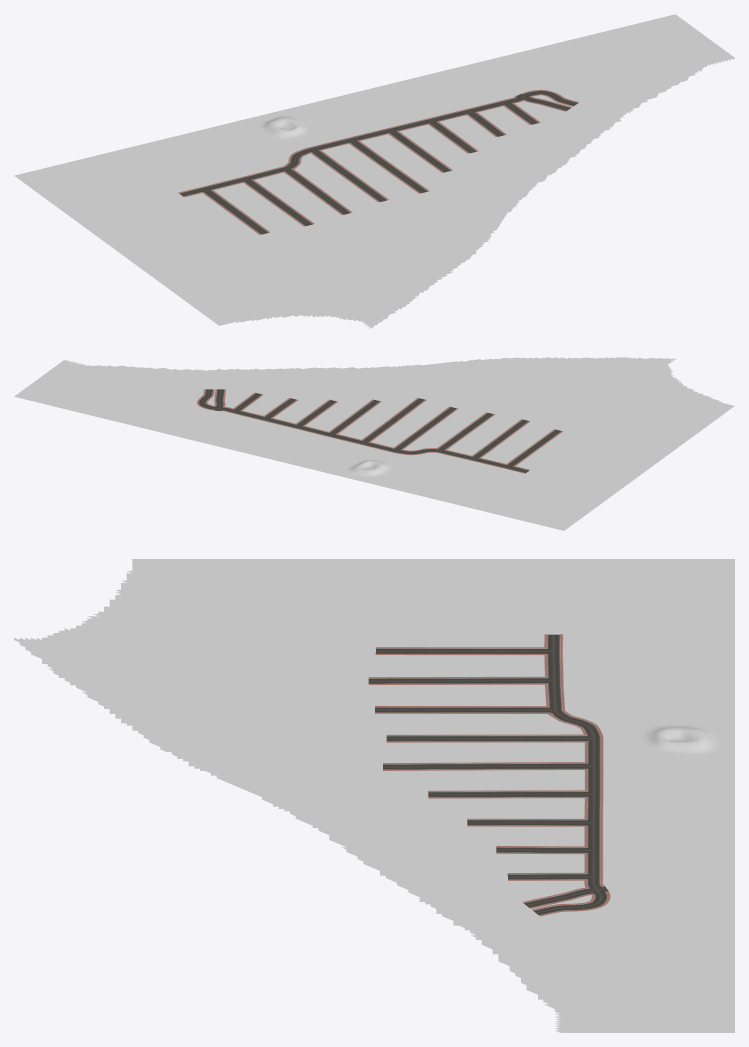
3 renders of one model, top to bottom at view 1: azimuth 30°, elevation 25°; view 2: azimuth 150°, elevation 25°; view 3: azimuth 270°, elevation 25°, orthographic. The views are drawn at different scales.
Visible parts, largest first — view 1: TtoM2, Default_Road_0010, Default_Road_009, Default_Road_004, Default_Road_006, Default_Road_001, Default_Road_0012; view 2: TtoM2, Default_Road_0010, Default_Road_009, Default_Road_004, Default_Road_006, Default_Road_001, Default_Road_0012, Default_Road_0014; view 3: TtoM2, Default_Road_009, Default_Road_0010, Default_Road_001, Default_Road_004, Default_Road_0012, Default_Road_006, Default_Road_0014, Default_Road_0021.
Part boxes in pixels (x1,y1,x2,y2): TtoM2: [14, 14, 734, 328]; Default_Road_0010: [349, 141, 429, 193]; Default_Road_009: [311, 150, 388, 202]; Default_Road_004: [244, 180, 314, 226]; Default_Road_006: [284, 170, 352, 214]; Default_Road_001: [203, 190, 269, 234]; Default_Road_0012: [389, 131, 452, 172]; TtoM2: [14, 357, 734, 530]; Default_Road_0010: [362, 398, 426, 441]; Default_Road_009: [394, 406, 458, 449]; Default_Road_004: [472, 419, 530, 457]; Default_Road_006: [438, 412, 495, 449]; Default_Road_001: [507, 429, 562, 465]; Default_Road_0012: [329, 399, 381, 433]; Default_Road_0014: [296, 399, 337, 425]; TtoM2: [14, 559, 734, 1032]; Default_Road_009: [386, 734, 583, 742]; Default_Road_0010: [383, 762, 583, 770]; Default_Road_001: [375, 647, 543, 655]; Default_Road_004: [368, 676, 544, 684]; Default_Road_0012: [428, 790, 583, 798]; Default_Road_006: [375, 705, 545, 713]; Default_Road_0014: [467, 818, 583, 826]; Default_Road_0021: [532, 893, 610, 916].
Size of the model in its own units: 3000 by 27.83 by 1930.
